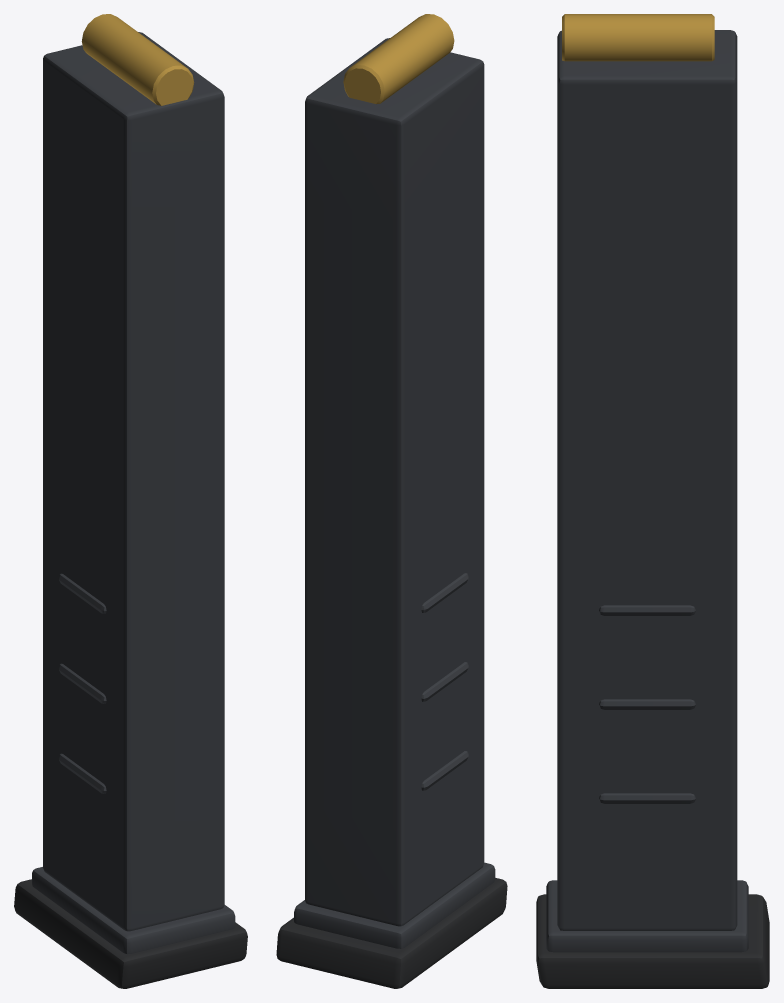
The model's file is mod_sparrow_extended_mag.glb.
The picture shows the model from 3 angles, left to right: view 1: azimuth 30°, elevation 25°; view 2: azimuth 150°, elevation 25°; view 3: azimuth 270°, elevation 25°; orthographic projection. The views are drawn at different scales.
Visible parts, largest first — view 1: Magazine, MagazinePad, MagazineRound; view 2: Magazine, MagazinePad, MagazineRound; view 3: Magazine, MagazinePad, MagazineRound.
Part boxes in pixels (x1=…): Magazine: x1=32, y1=32, x2=235, y2=954; MagazinePad: x1=14, y1=879, x2=247, y2=988; MagazineRound: x1=81, y1=14, x2=194, y2=105; Magazine: x1=294, y1=38, x2=495, y2=948; MagazinePad: x1=276, y1=878, x2=507, y2=988; MagazineRound: x1=343, y1=14, x2=454, y2=104; Magazine: x1=546, y1=30, x2=748, y2=952; MagazinePad: x1=536, y1=894, x2=769, y2=988; MagazineRound: x1=562, y1=14, x2=714, y2=61.
Bounding box in the file's own units: 0.0276 × 0.1852 × 0.0415.
